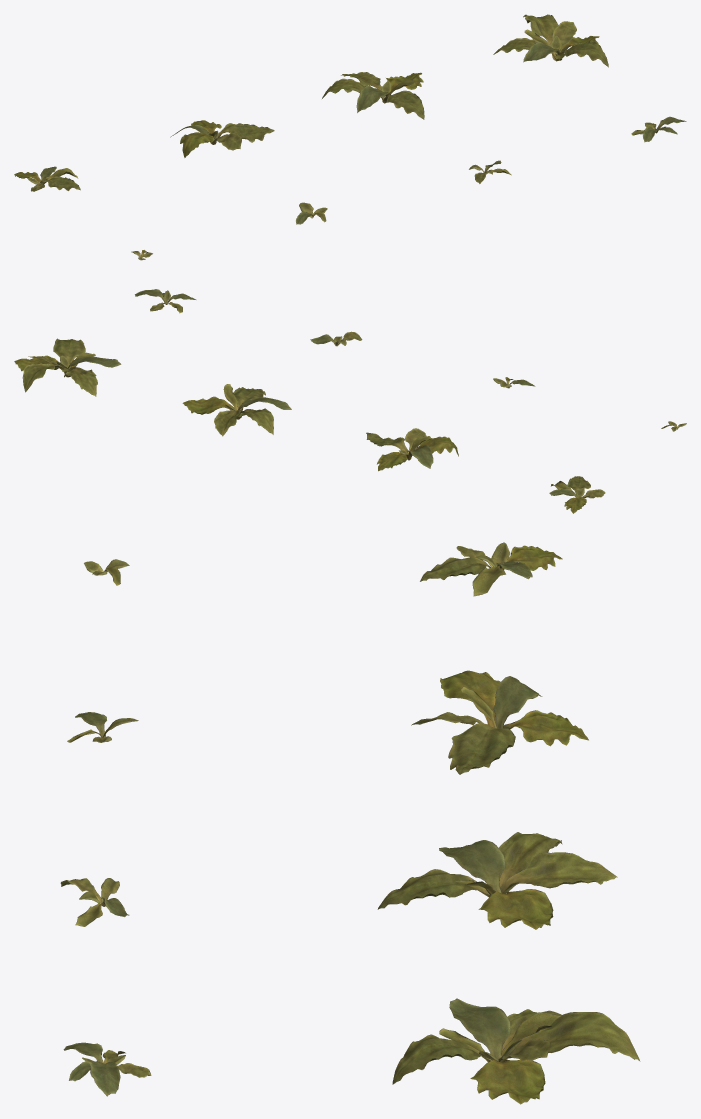
File: ice-plant.glb
The picture shows the model from 3 angles, top to bottom: view 1: azimuth 30°, elevation 25°; view 2: azimuth 150°, elevation 25°; view 3: azimuth 270°, elevation 25°; orthographic projection. The views are drawn at different scales.
Size of the model in its own units: 1.69 by 0.0822 by 0.7379.
Materials: 1 (1 with a texture image).
